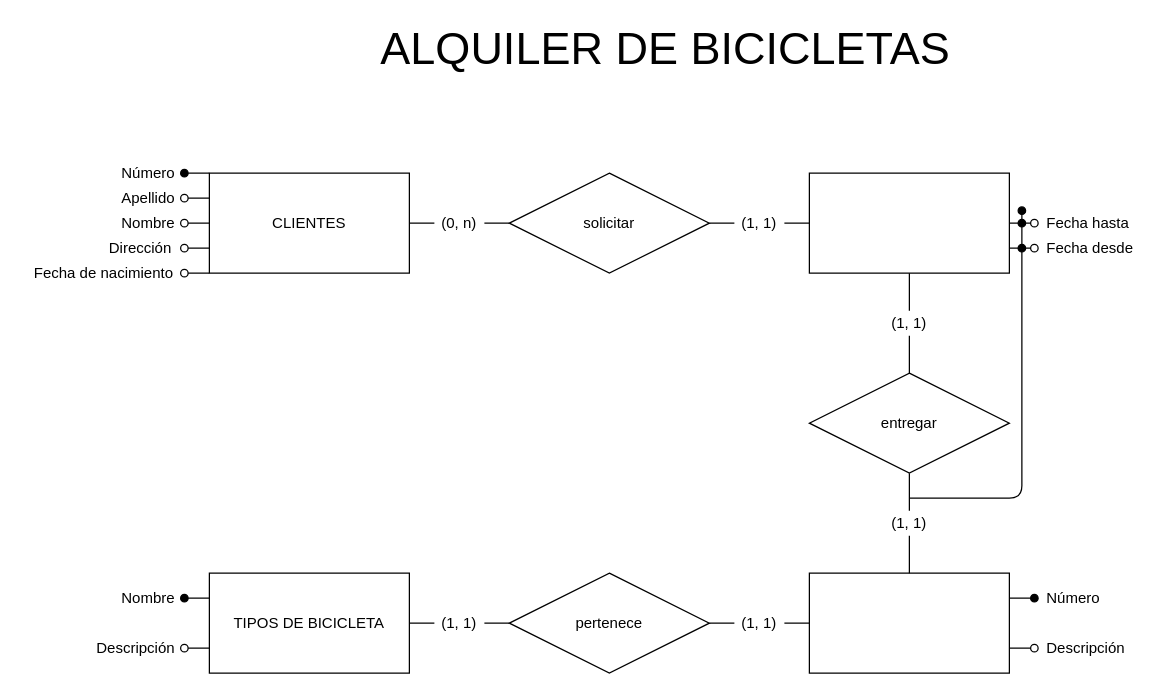
Image size: 1155x695. Some labels were removed from this diagram. Each missing label, with the centre of its shape:
ALQUILERES: pixel 908 222
BICICLETAS: pixel 908 622
